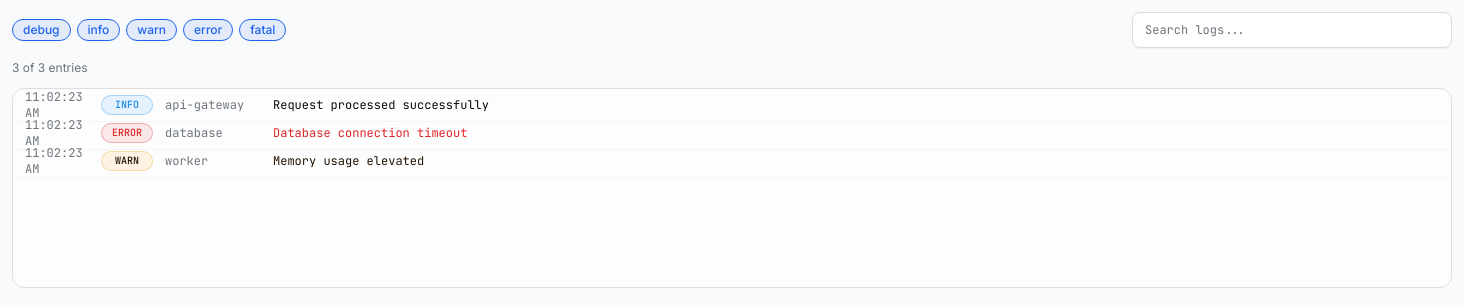
it: LogViewer › toggles log level filters
Click the button "error": (208, 30) [183,19,233,41]
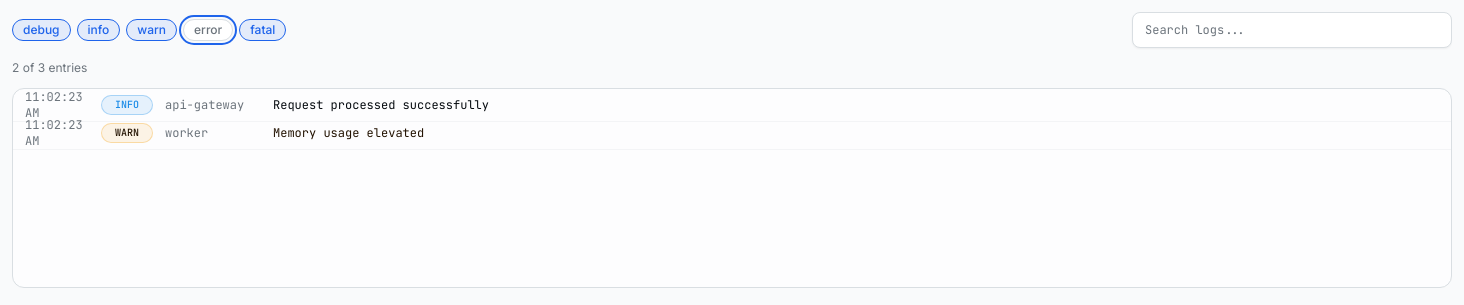
Expected: the text "2 of 3 entries" is shown, [12,60,87,76]
